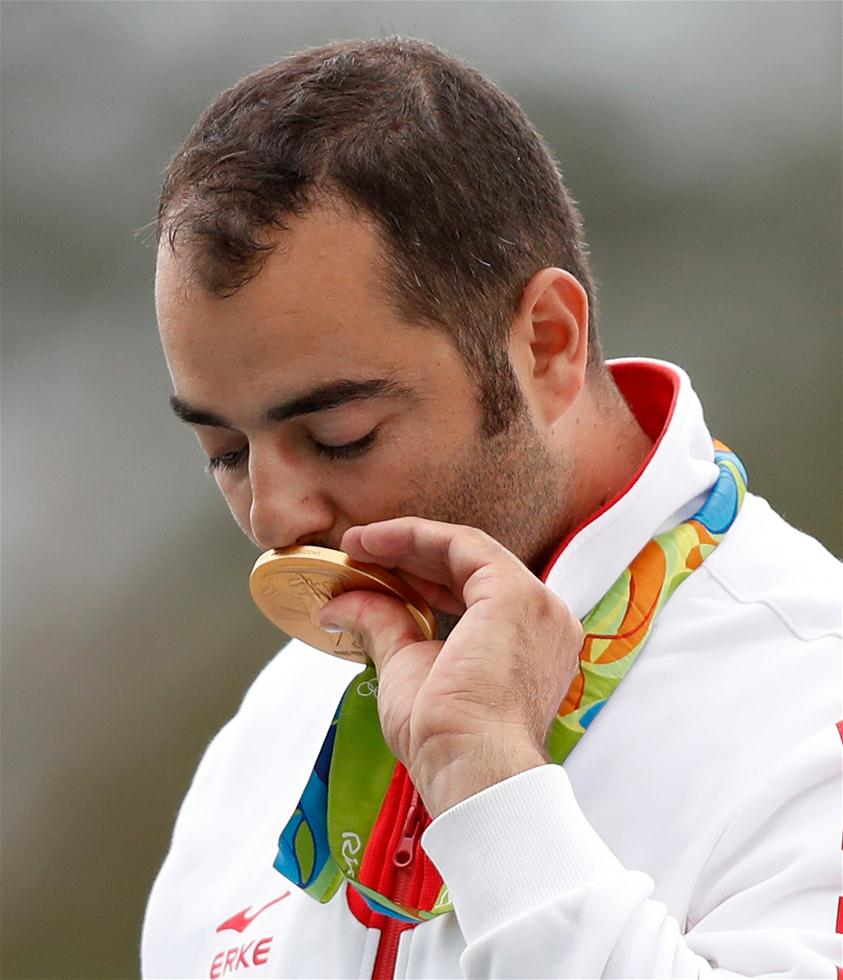face: (163, 219, 502, 701)
